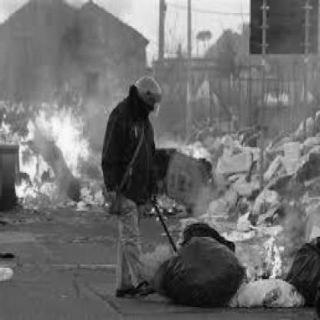Fire: (2, 70, 104, 209)
